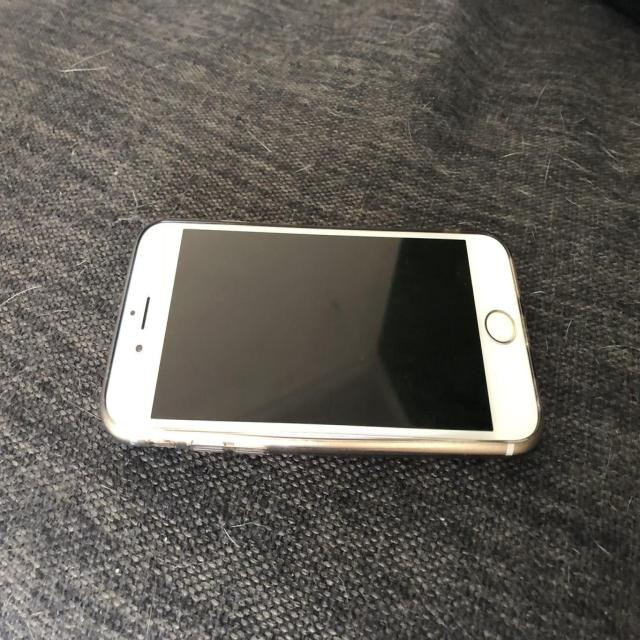Phone: (102, 220, 542, 448)
